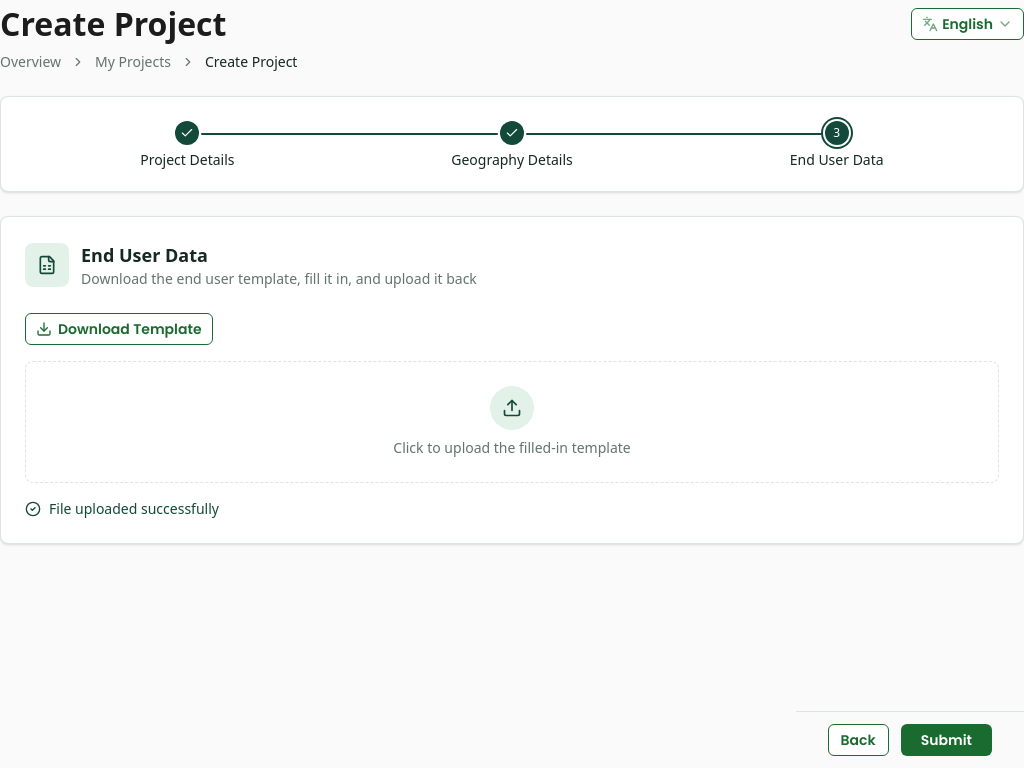
Test: CreateProjectPage › shows a submit-failed message in the dialog when scheduling fails
The width and height of the screenshot is (1024, 768).
Click the button "Submit". click: (946, 740)
box: [901,724,992,756]
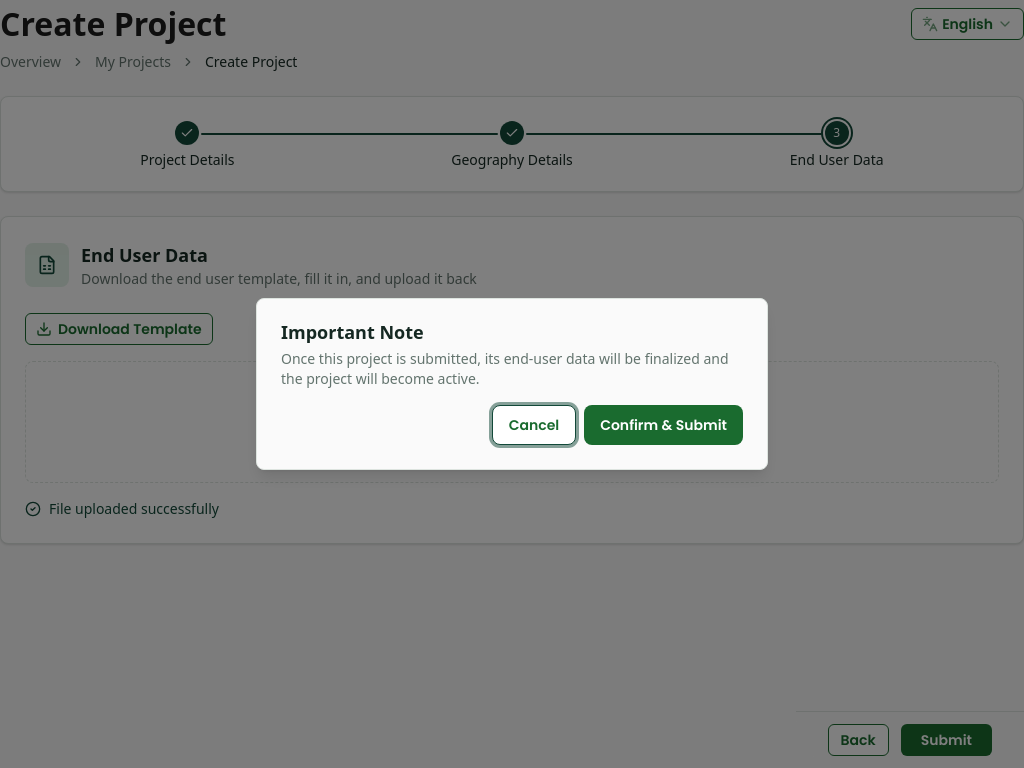
Click the button "Confirm & Submit". click: (664, 425)
box: [584,405,743,445]
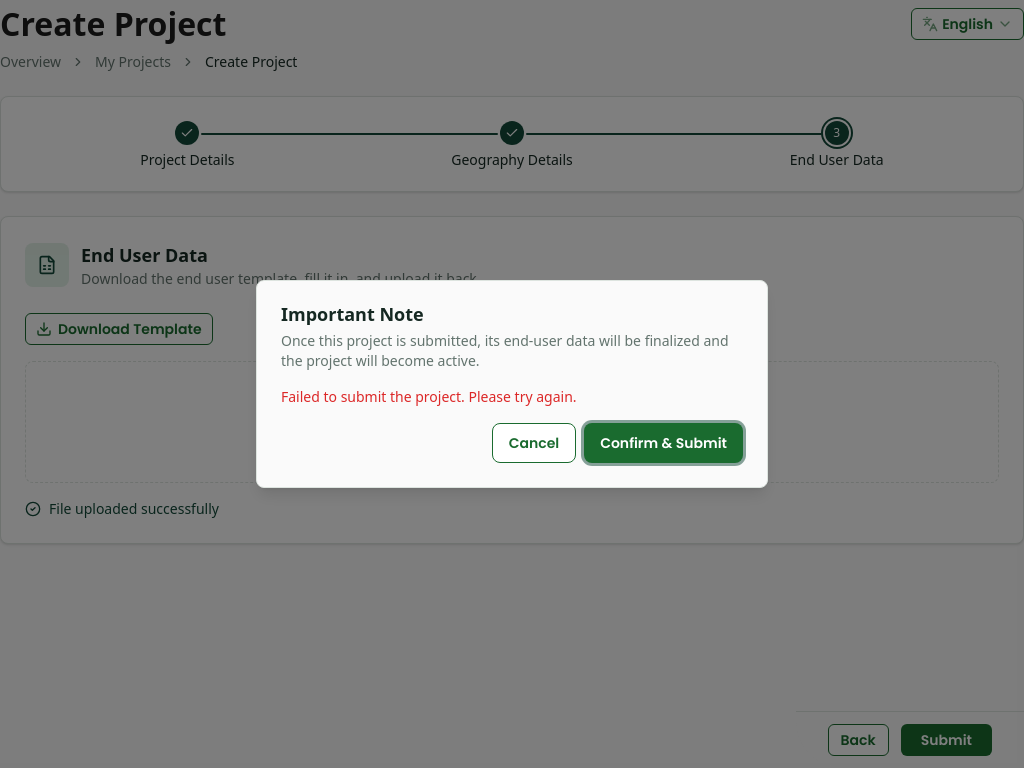
Now the text "Failed to submit the project. Please try again." is shown, box [281,387,576,406]
